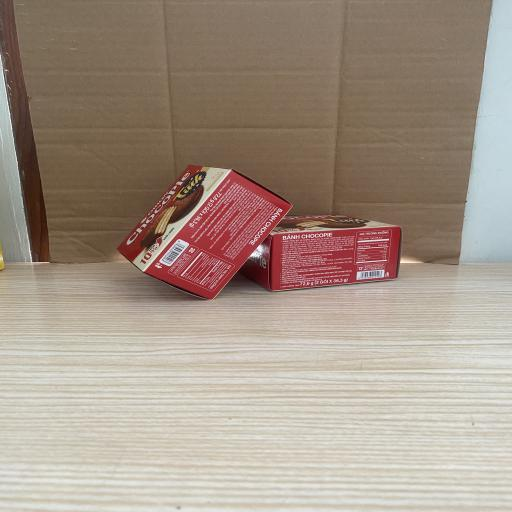chocopie: (117, 164, 290, 300), (250, 216, 401, 292)
